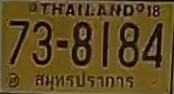1: (102, 22, 108, 66)
3: (32, 20, 51, 64)
4: (142, 22, 162, 67)
7: (9, 20, 28, 64)
8: (118, 22, 138, 66), (71, 21, 91, 65)
SPK: (31, 70, 137, 91)
